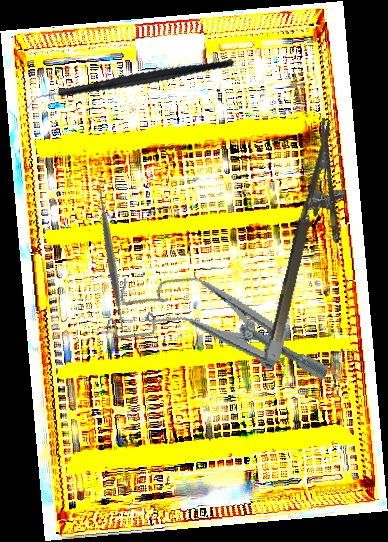Chopper: (22, 24, 235, 147)
Needle Holder: (267, 117, 367, 351)
Spatula Surgical: (31, 178, 192, 339)
Speculum: (103, 256, 342, 398)
